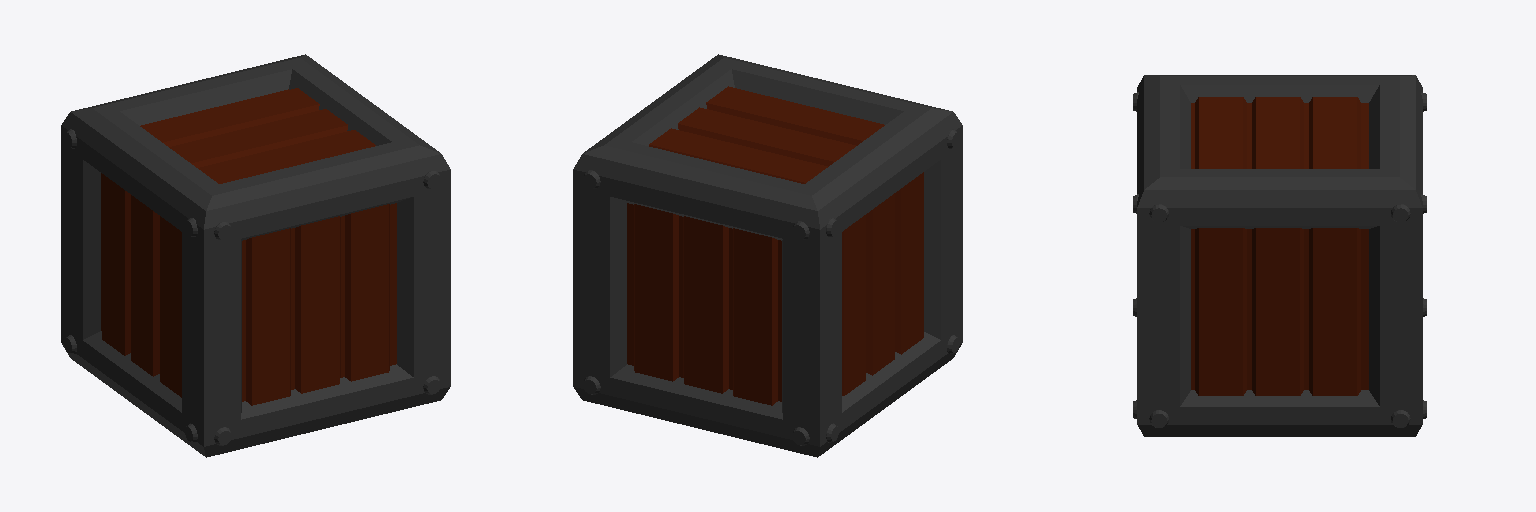
Rendered from Wooden_Box.obj.
3 views of the same model, side by side, from view 1: azimuth 30°, elevation 25°; view 2: azimuth 150°, elevation 25°; view 3: azimuth 270°, elevation 25° (orthographic).
Visible parts, largest first — view 1: Wooden_Box; view 2: Wooden_Box; view 3: Wooden_Box.
Part boxes in pixels (x1,y1,x2,y2): Wooden_Box: (61, 54, 450, 457); Wooden_Box: (573, 54, 962, 457); Wooden_Box: (1133, 75, 1426, 436).
Bounding box in the file's own units: 2.06 × 2 × 2.06.